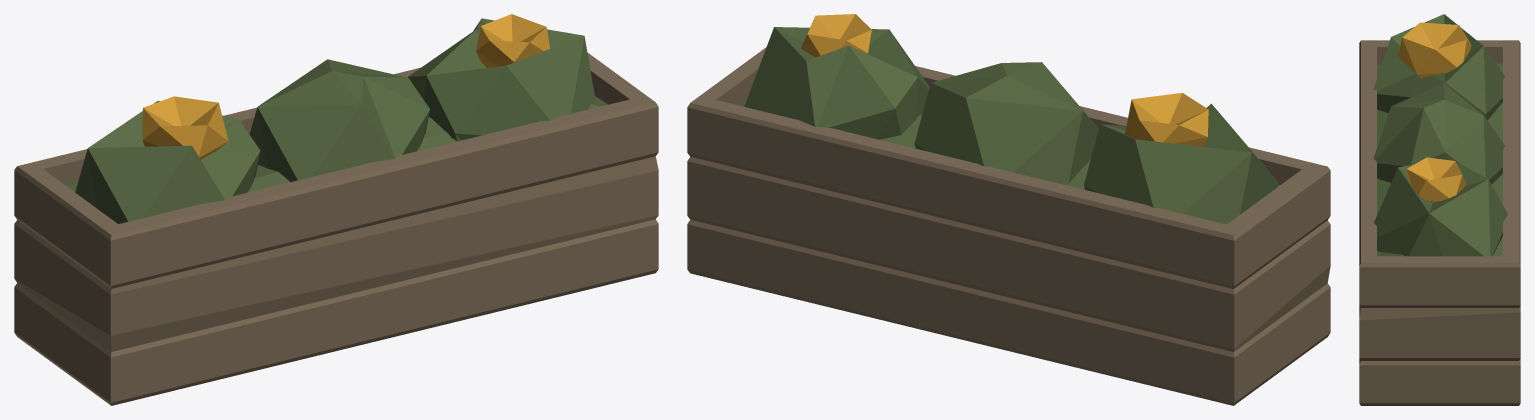
File: SM_Props_Interior_Plant_Window_02.fbx
The picture shows the model from 3 angles, left to right: view 1: azimuth 30°, elevation 25°; view 2: azimuth 150°, elevation 25°; view 3: azimuth 270°, elevation 25°; orthographic projection. The views are drawn at different scales.
Parts seen in each view (by area): view 1: SM_Props_Interior_Plant_Window_02; view 2: SM_Props_Interior_Plant_Window_02; view 3: SM_Props_Interior_Plant_Window_02.
Part boxes in pixels (x1,y1,x2,y2): SM_Props_Interior_Plant_Window_02: (14, 14, 658, 405); SM_Props_Interior_Plant_Window_02: (687, 14, 1330, 405); SM_Props_Interior_Plant_Window_02: (1359, 14, 1520, 405).
Bounding box in the file's own units: 201 × 82.62 × 61.41.
